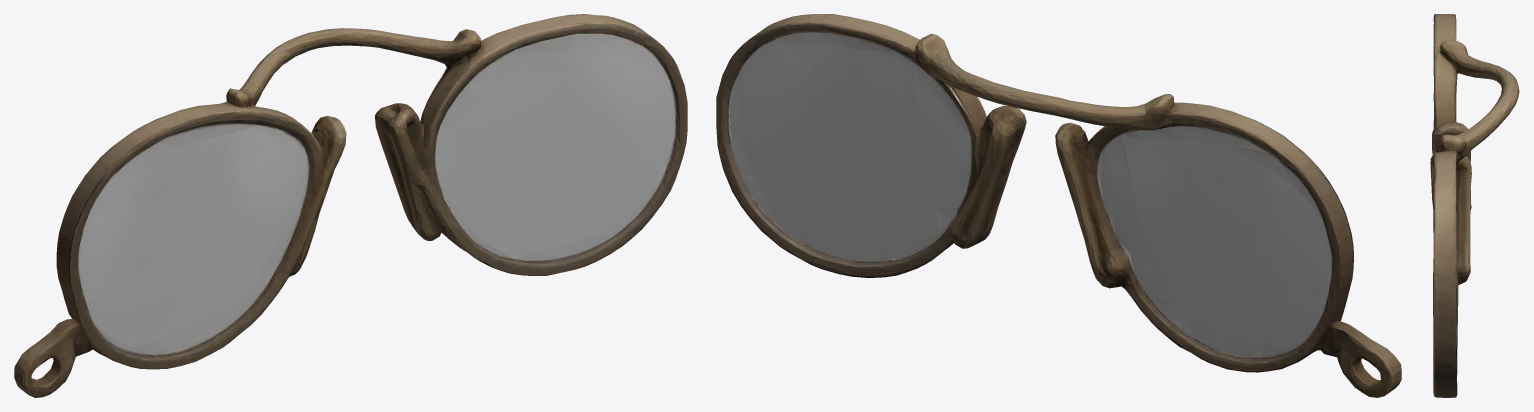
Rendered from head_accessory__0_108-.glb.
3 views of the same model, side by side, from view 1: azimuth 30°, elevation 25°; view 2: azimuth 150°, elevation 25°; view 3: azimuth 270°, elevation 25° (orthographic). The views are drawn at different scales.
Visible parts, largest first — view 1: geometry_0_108; view 2: geometry_0_108; view 3: geometry_0_108.
Boxes of the visible parts, left/top/right/bottom form: geometry_0_108: left=14, top=14, right=687, bottom=397; geometry_0_108: left=716, top=14, right=1401, bottom=397; geometry_0_108: left=1430, top=14, right=1519, bottom=397.
Bounding box in the file's own units: 0.9996 × 0.3686 × 0.1378.
Materials: 1 (1 with a texture image).
